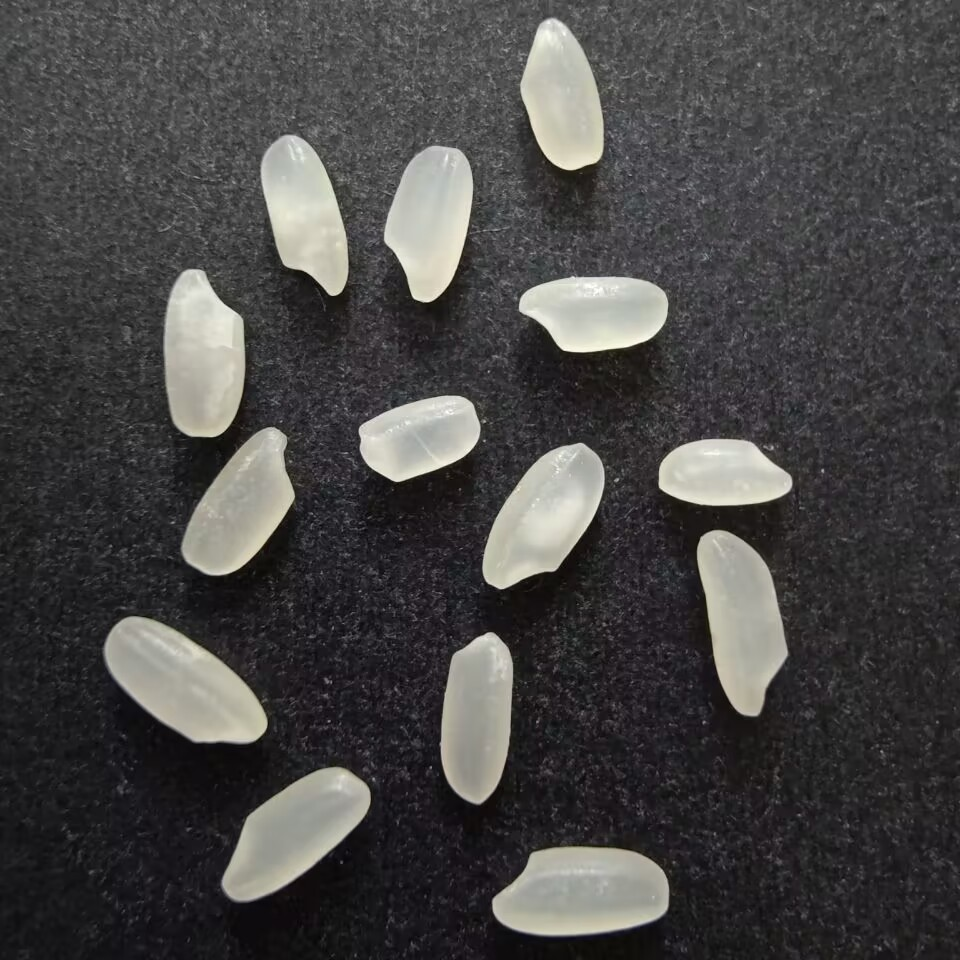broken: (354, 392, 479, 486)
rice: (98, 612, 271, 746), (217, 763, 373, 909), (477, 441, 606, 592), (692, 527, 791, 722), (485, 840, 674, 939), (179, 425, 300, 578), (157, 265, 250, 441), (256, 133, 353, 299), (378, 142, 475, 305), (433, 628, 517, 807), (516, 16, 607, 172), (513, 270, 671, 354), (654, 435, 798, 507)
